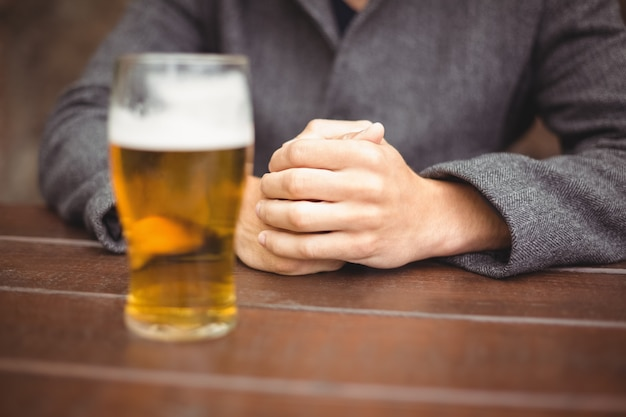alcohol: (106, 54, 257, 343)
